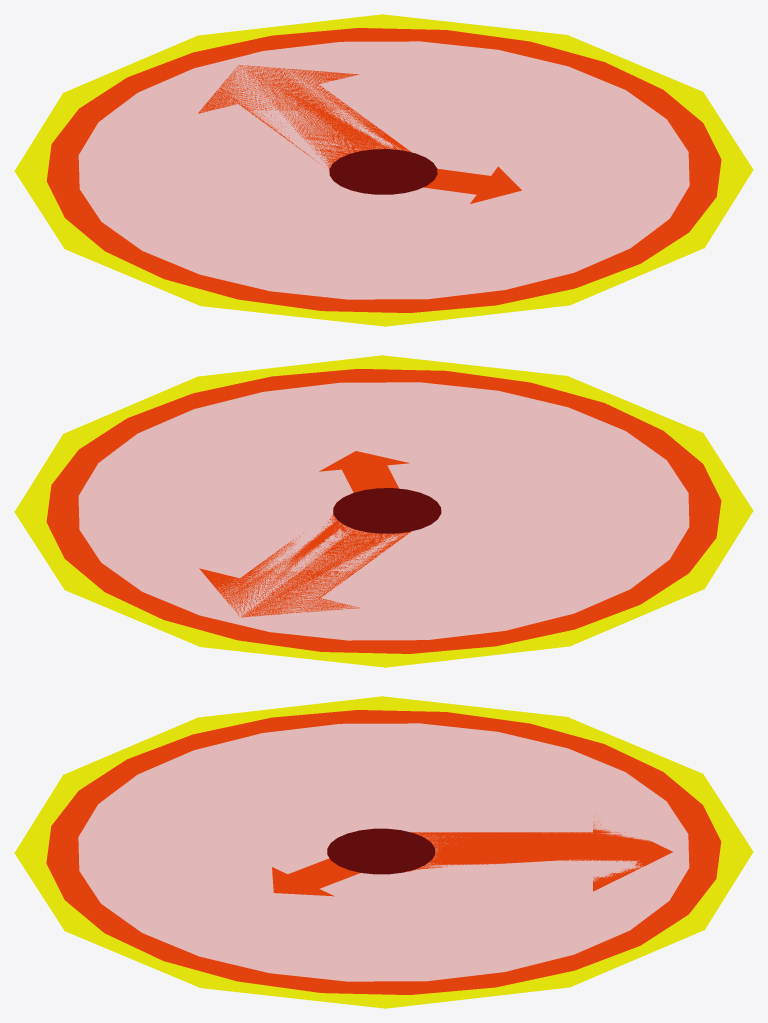
Rendered from zegarek.obj.
3 renders of one model, top to bottom at view 1: azimuth 30°, elevation 25°; view 2: azimuth 150°, elevation 25°; view 3: azimuth 270°, elevation 25°, orthographic.
Parts seen in each view (by area): view 1: Mesh1 Model; view 2: Mesh1 Model; view 3: Mesh1 Model.
Boxes of the visible parts, bbox=[...] form: Mesh1 Model: bbox=[14, 14, 753, 326]; Mesh1 Model: bbox=[14, 355, 753, 667]; Mesh1 Model: bbox=[14, 696, 753, 1008].
Bounding box in the file's own units: 3.13 × 1.62e-15 × 3.13.
